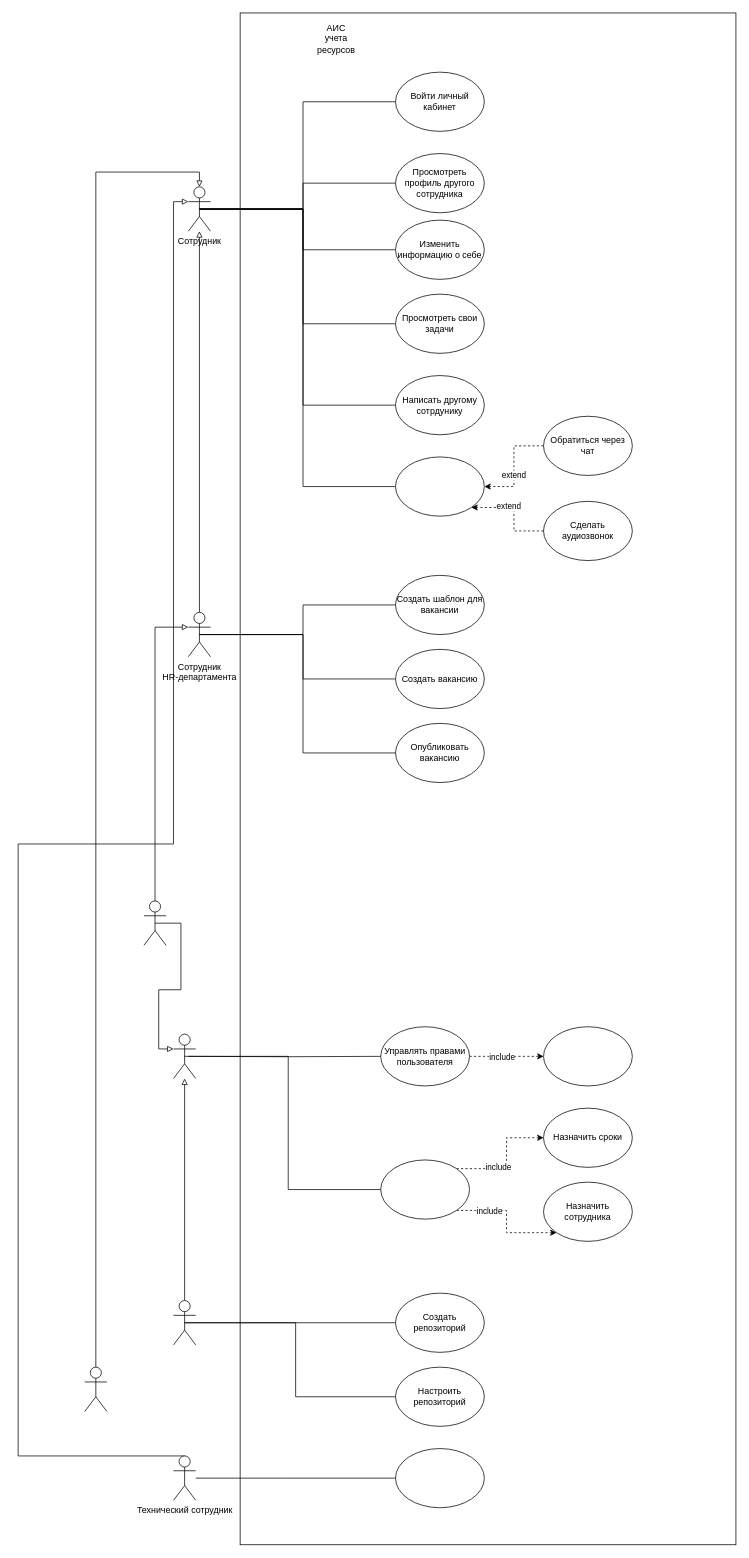
Image size: 749x1558. Some labels were removed from this diagram. The centre of each missing label's shape, as x and y in pixels:
Выгрузить код в репозиторий: the point at 439,1478
Изменить права пользователя: the point at 587,1056
Линейный руководитель: the point at 154,922
Менеджер проекта: the point at 184,1056
Обратиться в службу поддержки: the point at 439,486
Создать задачу: the point at 425,1189
Сотрудник тех. поддержки: the point at 95,1389
Технический руководитель: the point at 184,1322
